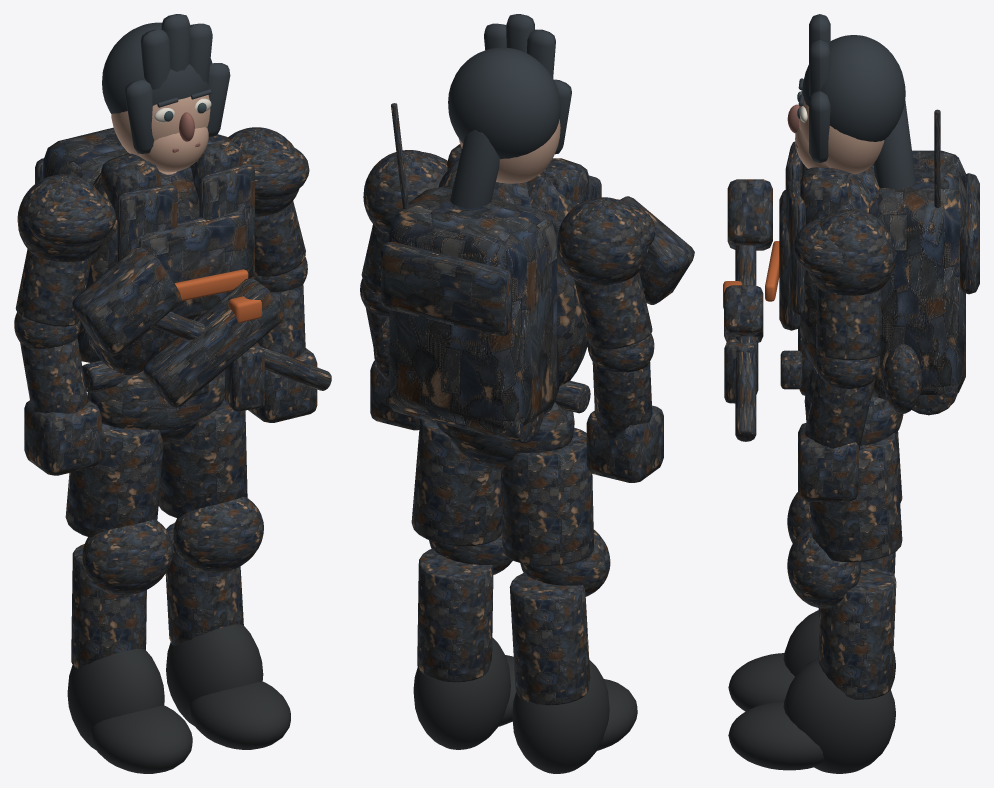
File: survivor_apocalypse.glb
The picture shows the model from 3 angles, left to right: view 1: azimuth 30°, elevation 25°; view 2: azimuth 150°, elevation 25°; view 3: azimuth 270°, elevation 25°; orthographic projection.
Visible parts, largest first — view 1: Thigh, Rifle_body, Thigh.001, Rifle_stock, Chest_armor, Boot, Boot.001, Shin, Knee, Knee.001, Boot_toe, Boot_toe.001 (+34 smaller); view 2: Backpack, Thigh, Hair_cap, Shin, Shin.001, Pack_flap, Thigh.001, Shoulder, Boot, Boot.001, Upper_arm, Glove (+22 smaller); view 3: Backpack, Shin.001, Boot.001, Thigh.001, Hair_cap, Shoulder.001, Boot_toe.001, Upper_arm.001, Glove.001, Knee.001, Forearm.001, Rifle_stock (+26 smaller).
Boxes of the visible parts, x1,y1,x2,y2 form: Thigh: (65, 423, 163, 537); Rifle_body: (143, 278, 283, 407); Thigh.001: (158, 398, 247, 518); Rifle_stock: (72, 247, 181, 355); Chest_armor: (136, 211, 245, 329); Boot: (67, 649, 164, 750); Boot.001: (166, 624, 263, 726); Shin: (71, 544, 146, 668); Knee: (82, 519, 173, 595); Knee.001: (173, 497, 263, 573); Boot_toe: (90, 705, 192, 773); Boot_toe.001: (188, 681, 290, 749); Backpack: (389, 187, 559, 433); Thigh: (501, 428, 593, 565); Hair_cap: (448, 47, 560, 159); Shin: (509, 573, 590, 705); Shin.001: (417, 549, 493, 682); Pack_flap: (381, 241, 511, 336); Thigh.001: (411, 418, 502, 546); Shoulder: (557, 197, 648, 285); Boot: (512, 660, 609, 773); Boot.001: (413, 637, 510, 749); Upper_arm: (574, 271, 652, 349); Glove: (586, 405, 663, 482); Backpack: (868, 150, 965, 399); Shin.001: (818, 564, 896, 699); Boot.001: (783, 658, 895, 773); Thigh.001: (808, 433, 902, 562); Hair_cap: (802, 35, 905, 141); Shoulder.001: (807, 209, 895, 295); Boot_toe.001: (728, 701, 823, 770); Upper_arm.001: (815, 287, 882, 360); Glove.001: (798, 423, 858, 501); Knee.001: (787, 526, 861, 608); Forearm.001: (804, 373, 875, 449); Rifle_stock: (727, 179, 772, 250).
Size of the model in its own units: 0.754 by 1.85 by 0.589.
11 materials, 4 textured.
